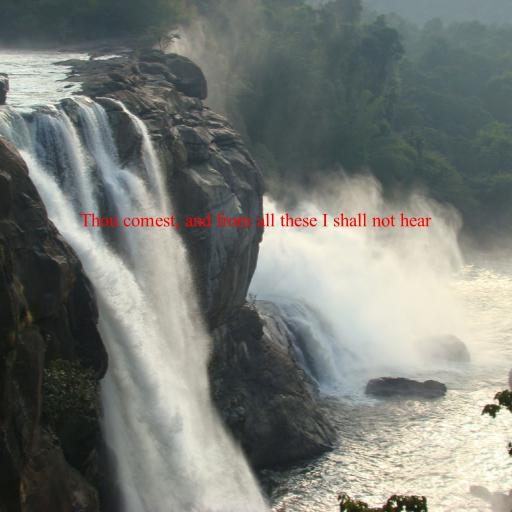Times New Roman: (79, 213, 431, 230)
